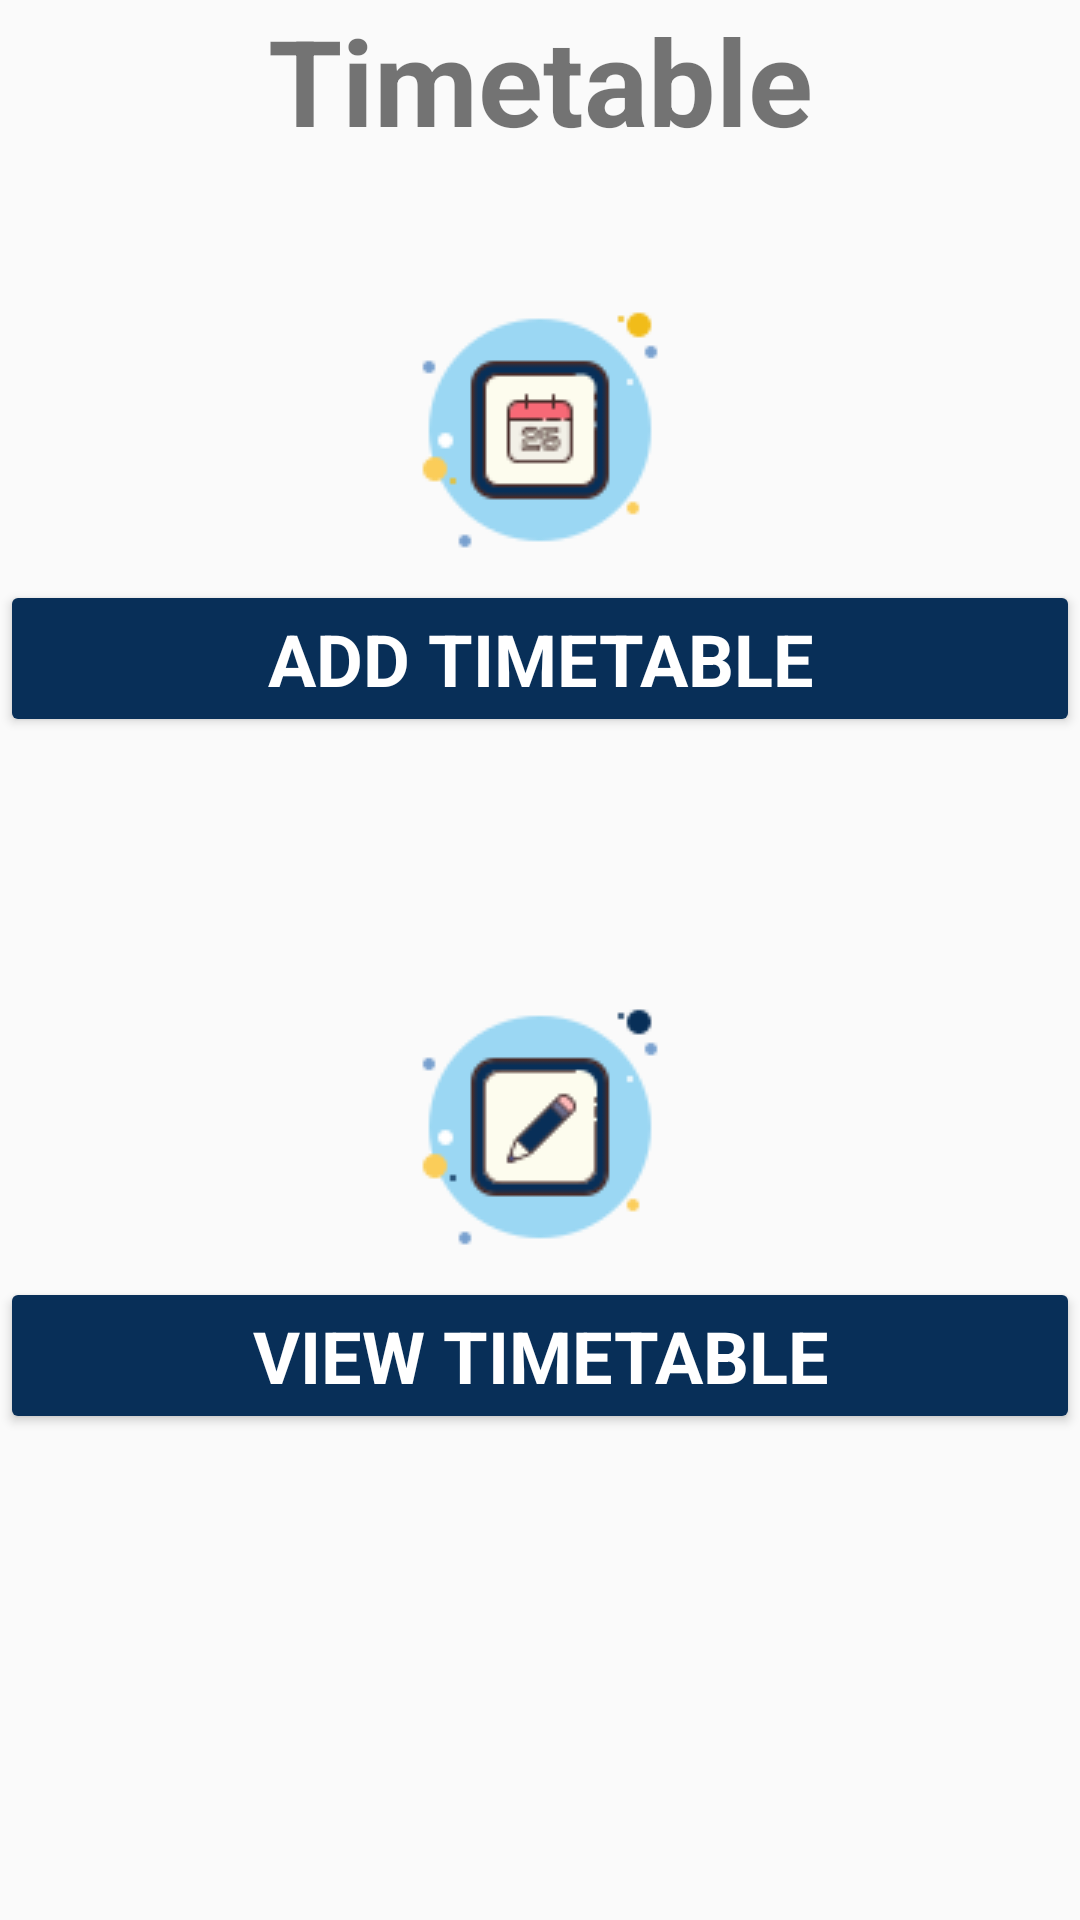

Screen size 1080×1920. Icon name, then its center in pixels as [x,y]:
edit timetable: [540,1127]
